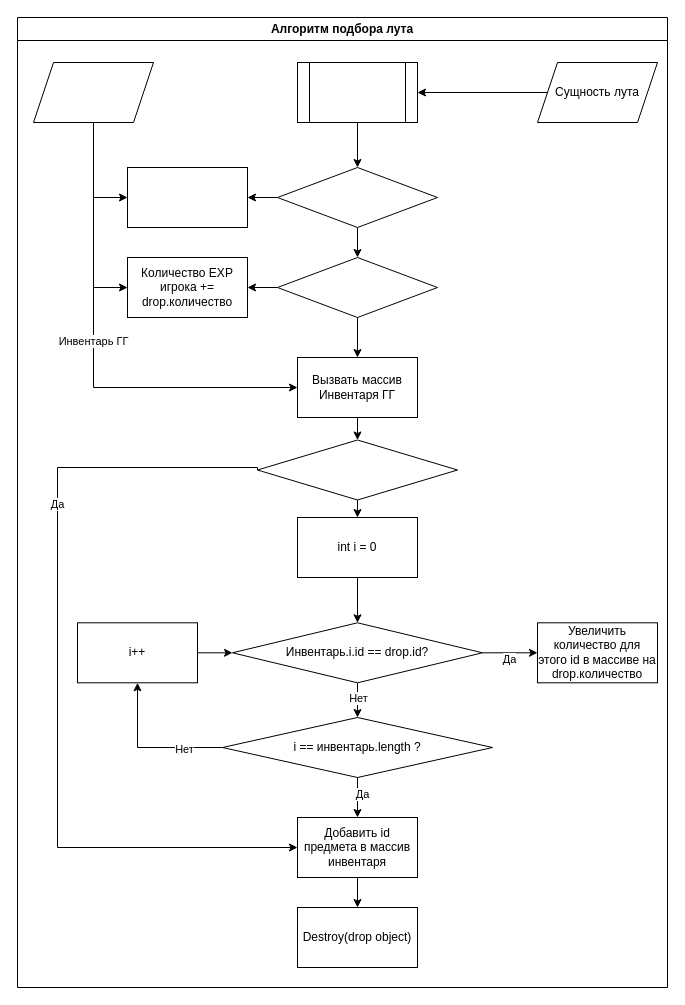
Some shapes in this 685 by 1005 pixel diagram are drawn without their labels. The shapes that lost their labels are listed below. From the top down, each one's box as (x1, y1, x2, y2) in pixels, then its label:
(32, 62, 154, 122): Сущность ГГ
(296, 62, 418, 122): Попадание Предмета (drop) в радиус подъема
(126, 166, 248, 228): Количество золота игрока += drop.количество
(276, 166, 438, 228): drop.id == enumGold ?
(276, 256, 438, 318): drop.id == enumExp ?
(256, 439, 458, 500): Инвентарь.lengh == 0 ?
